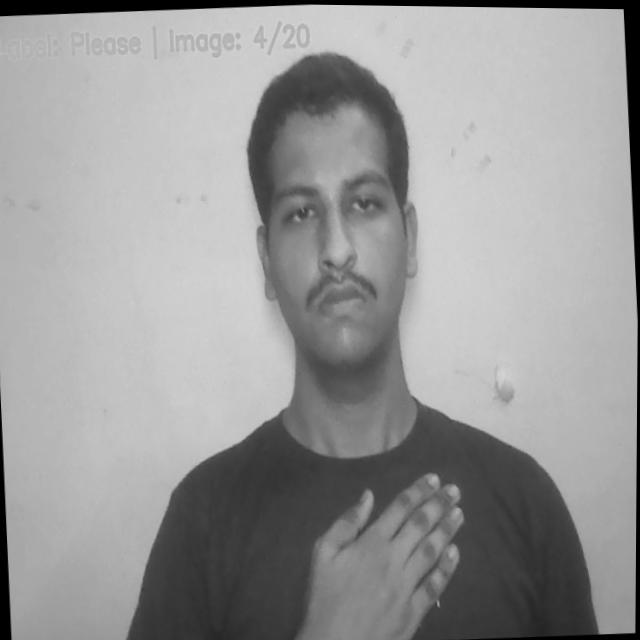Please: (283, 471, 483, 640)
